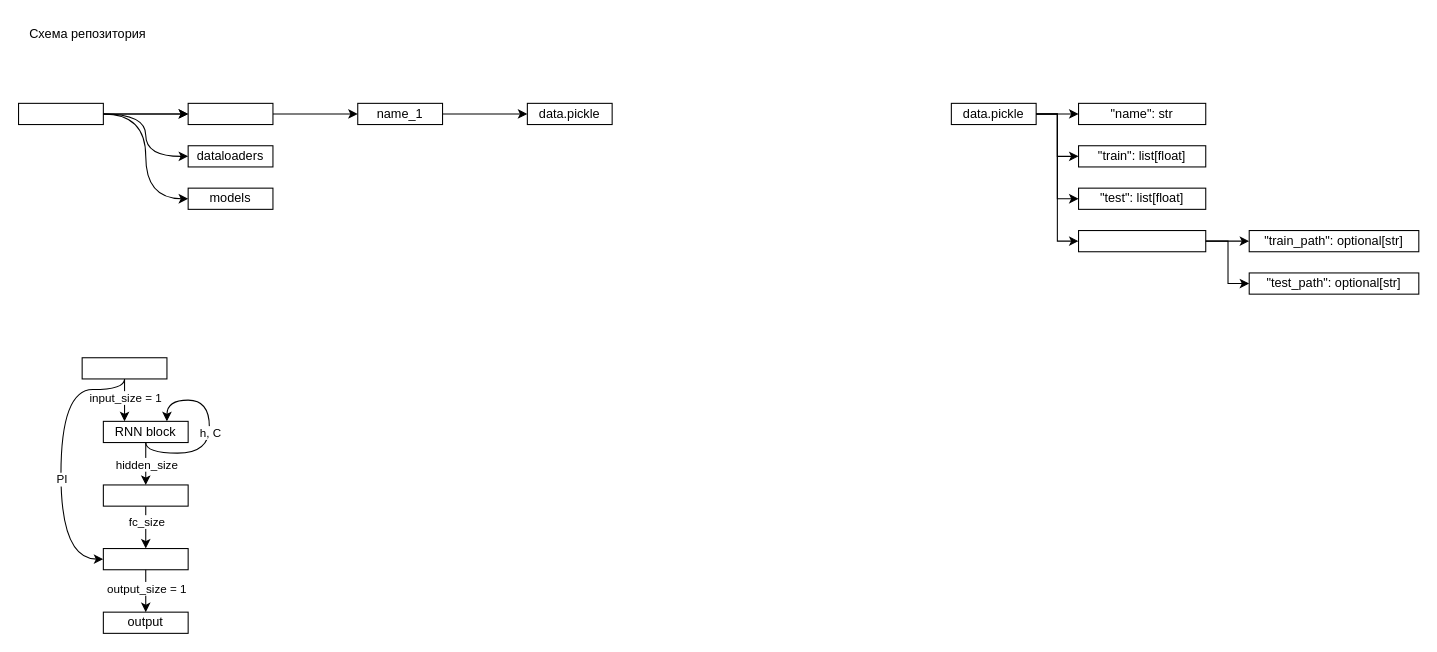
Image size: 1437x652. Some labels were removed from this diagram. Here are the shapes that lost their labels. From the top down, the centre of each, then its label:
(60,113): src
(230,113): data
(1141,240): "meta": dict[str, any]
(124,368): input
(145,495): FC layer 1
(145,558): FC layer 2
